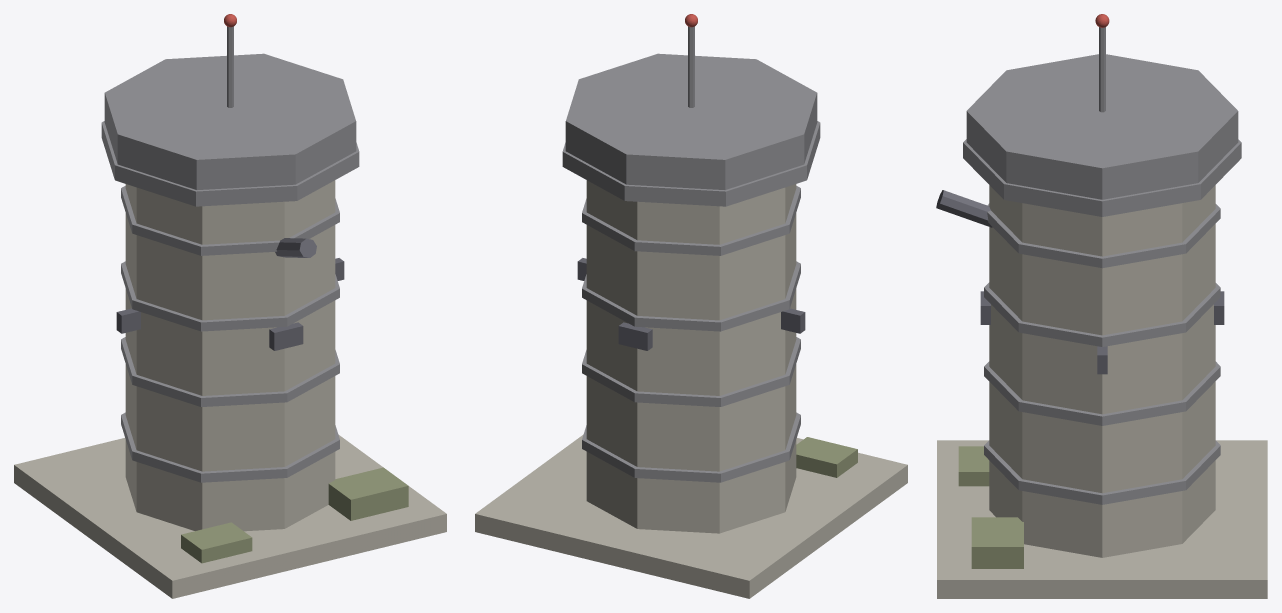
Rendered from tower.glb.
The picture shows the model from 3 angles, left to right: view 1: azimuth 30°, elevation 25°; view 2: azimuth 150°, elevation 25°; view 3: azimuth 270°, elevation 25°; orthographic projection. The views are drawn at different scales.
Visible parts, largest first — view 1: Tower; view 2: Tower; view 3: Tower.
Part boxes in pixels (box(x1,y1,x2,y2)): Tower: box(14, 14, 446, 598); Tower: box(475, 14, 907, 598); Tower: box(936, 14, 1267, 598).
Bounding box in the file's own units: 1.9 × 3.26 × 1.9.
